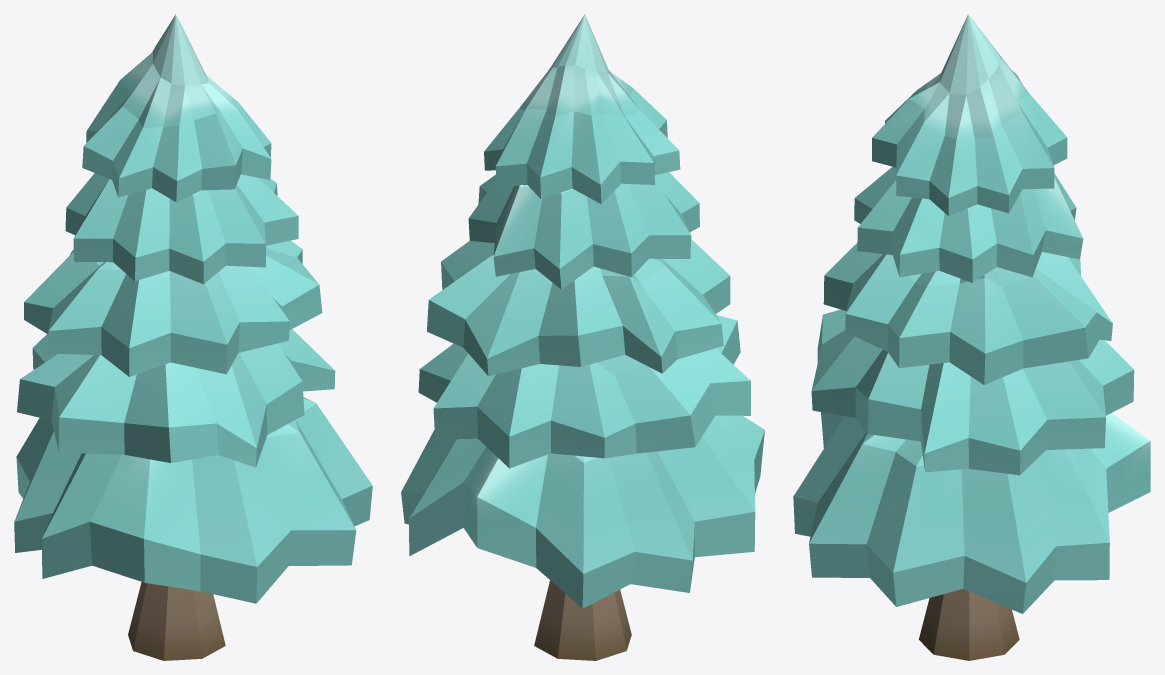
Rendered from fern.fbx.
3 views of the same model, side by side, from view 1: azimuth 30°, elevation 25°; view 2: azimuth 150°, elevation 25°; view 3: azimuth 270°, elevation 25° (orthographic).
Visible parts, largest first — view 1: Tree_Fern_Medium_Winter; view 2: Tree_Fern_Medium_Winter; view 3: Tree_Fern_Medium_Winter.
Boxes of the visible parts, bbox=[...] form: Tree_Fern_Medium_Winter: bbox=[14, 14, 372, 660]; Tree_Fern_Medium_Winter: bbox=[401, 14, 764, 660]; Tree_Fern_Medium_Winter: bbox=[793, 14, 1150, 660].
Size of the model in its own units: 231 by 445 by 231.
1 material, 1 textured.
